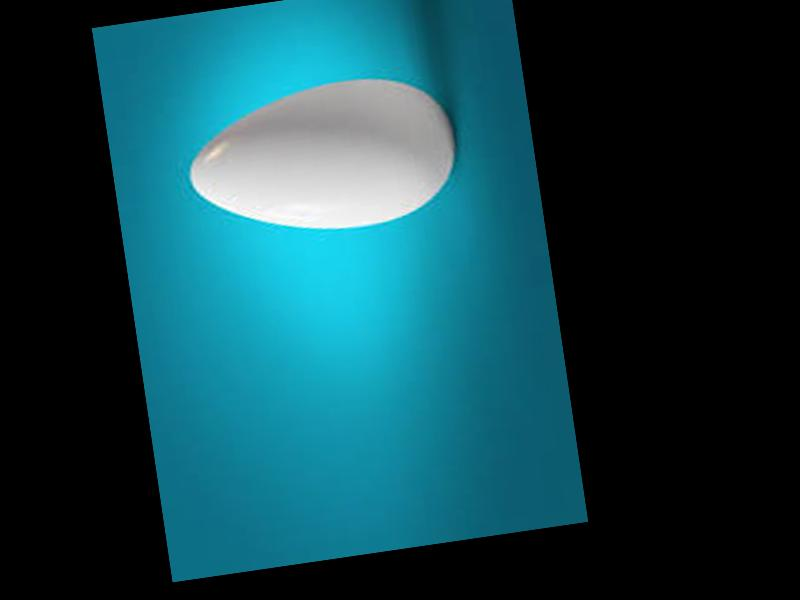Eggs: (181, 65, 465, 250)
